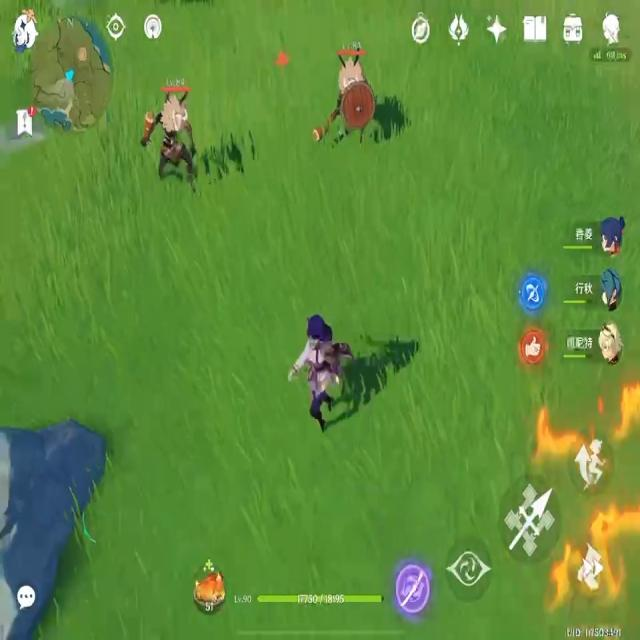genshin-hilichurls: (320, 45, 378, 144), (145, 84, 198, 178)
